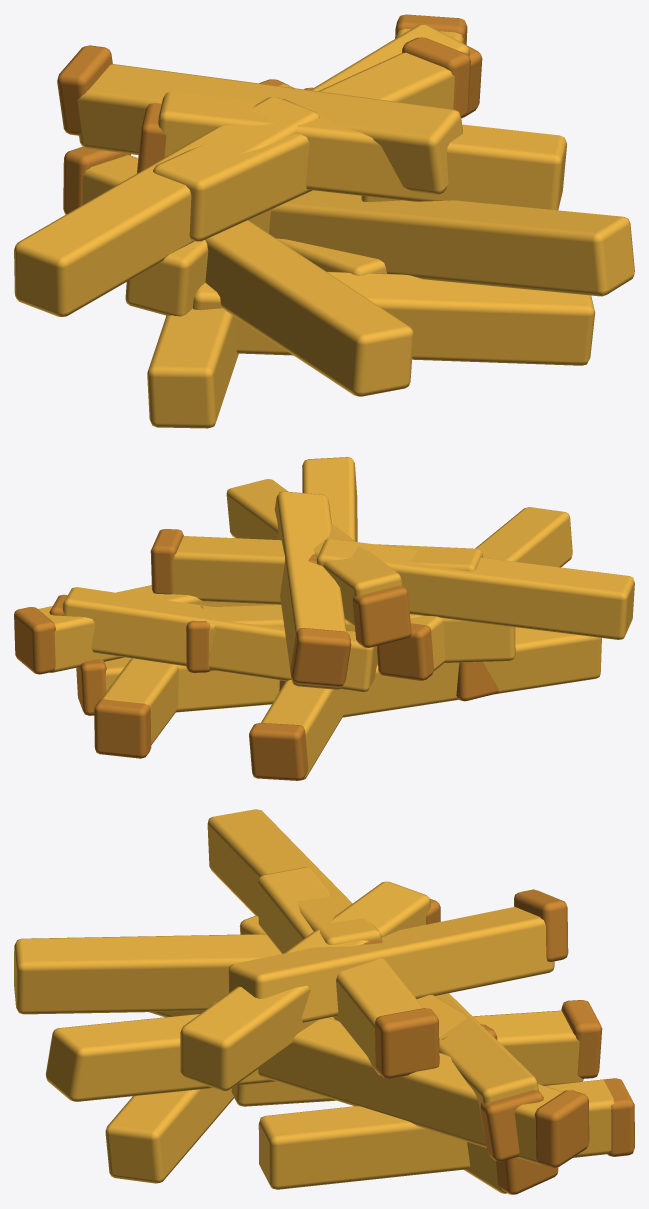
Rendered from Potato_Fries.glb.
3 views of the same model, one above another, from view 1: azimuth 30°, elevation 25°; view 2: azimuth 150°, elevation 25°; view 3: azimuth 270°, elevation 25° (orthographic). The views are drawn at different scales.
Parts seen in each view (by area): view 1: Potato_Fries; view 2: Potato_Fries; view 3: Potato_Fries.
Part boxes in pixels (x1,y1,x2,y2): Potato_Fries: (14,14,634,428); Potato_Fries: (14,457,634,780); Potato_Fries: (14,809,634,1194).
Bounding box in the file's own units: 0.1263 × 0.0404 × 0.1241.
